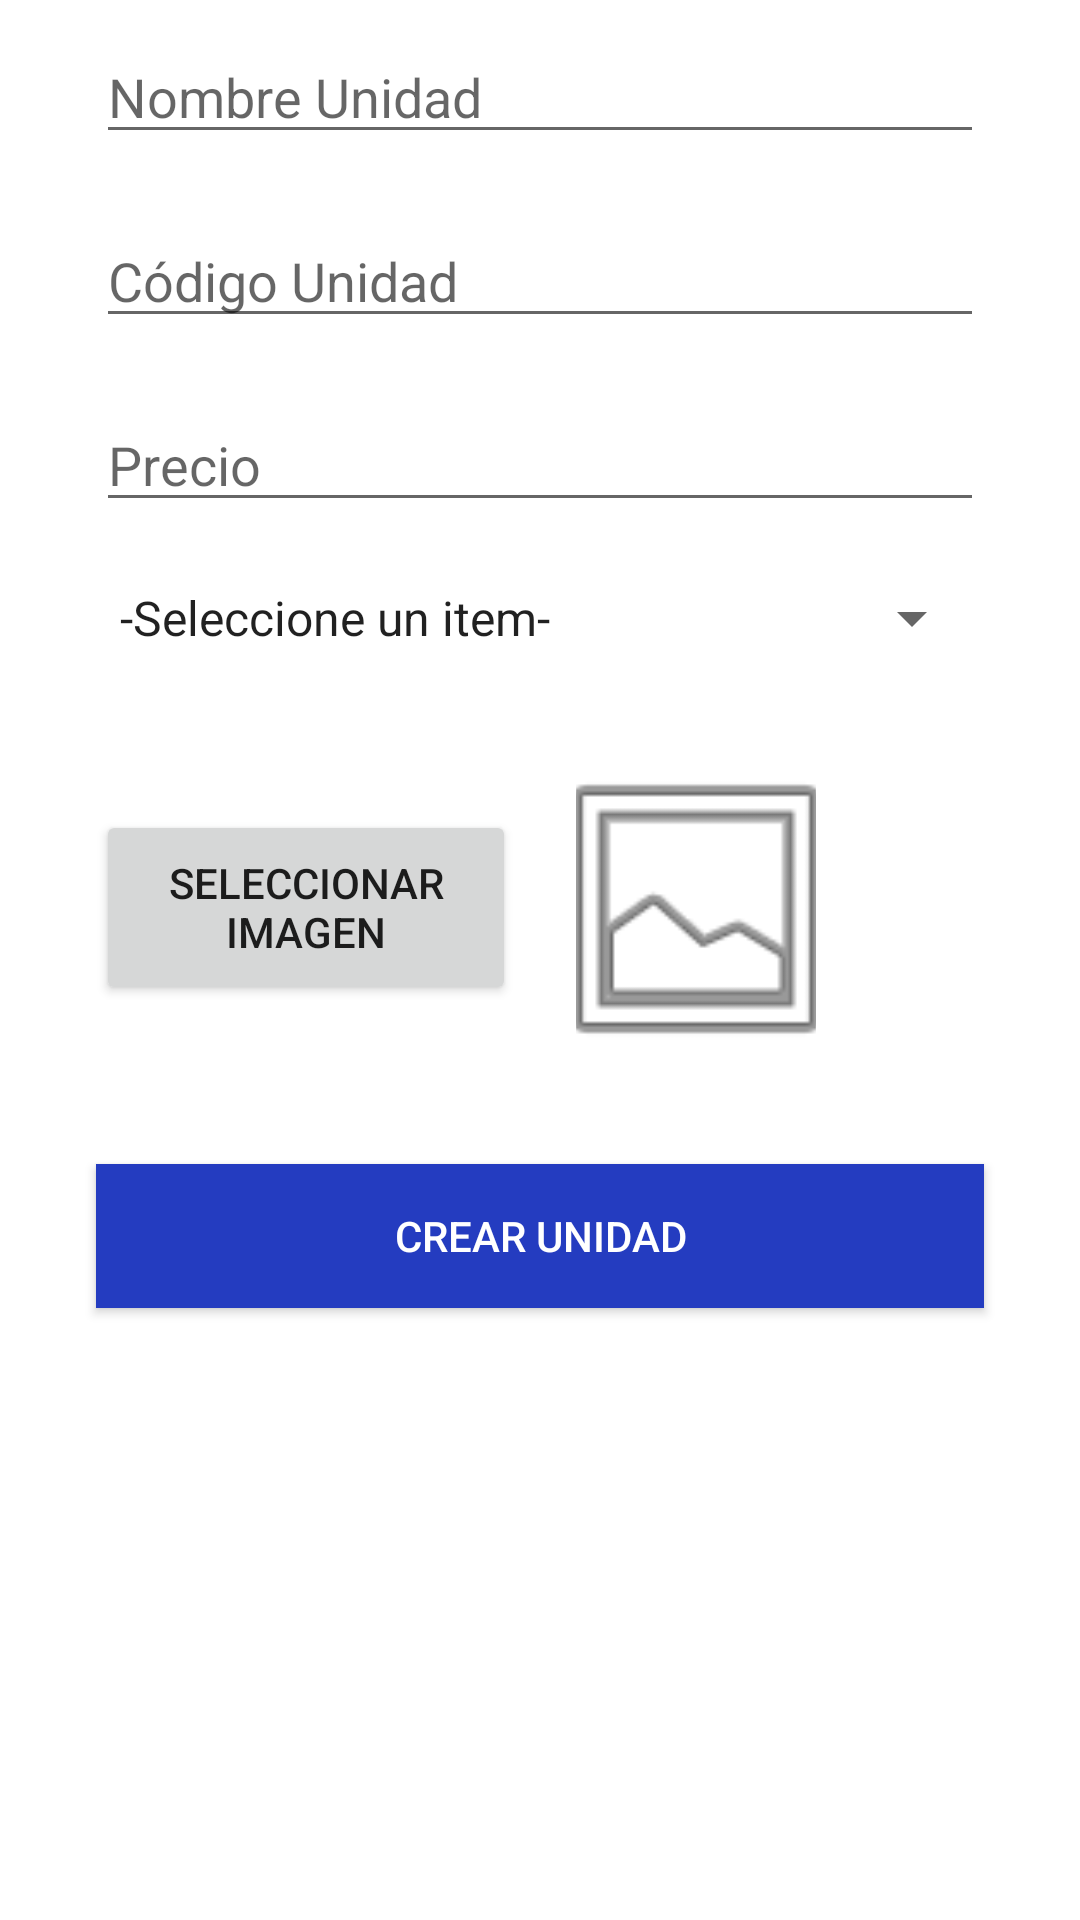

Where icons sit on this 1080 x 1920 app screen, as [left=x1, top=y1, right=x2, bottom=y2]:
gallery: [left=576, top=784, right=816, bottom=1034]
